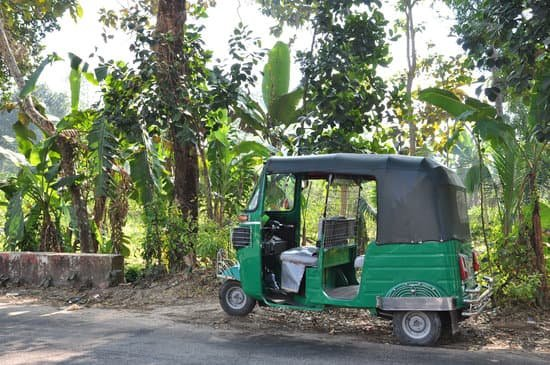threewheel: (216, 154, 480, 347)
